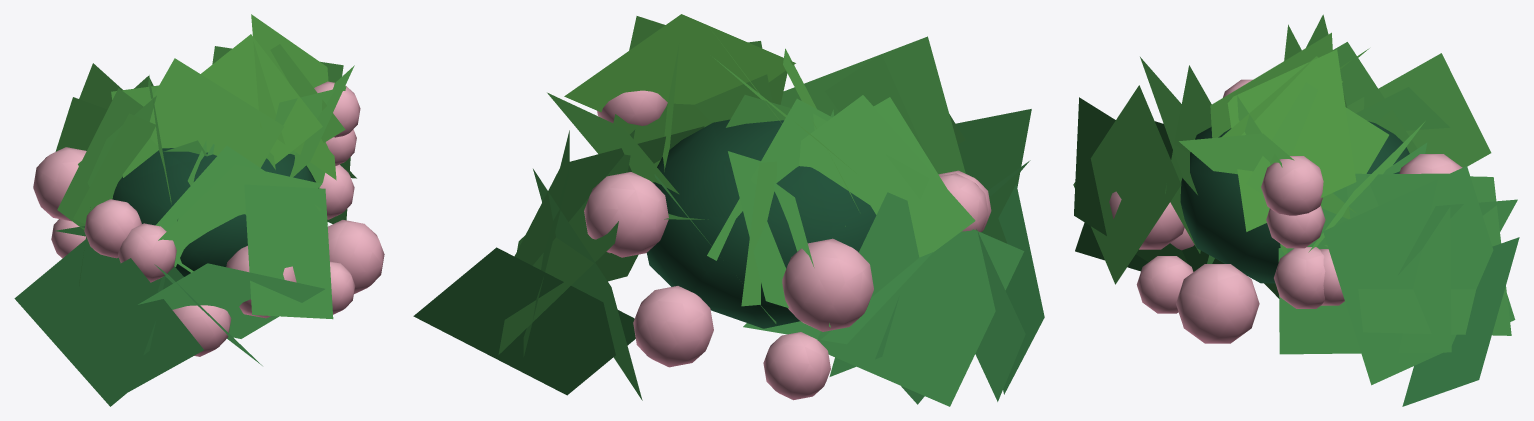
The model's file is bush_b.glb.
3 renders of one model, left to right at view 1: azimuth 30°, elevation 25°; view 2: azimuth 150°, elevation 25°; view 3: azimuth 270°, elevation 25°, orthographic. The views are drawn at different scales.
Parts seen in each view (by area): view 1: Leaves, Blooms, Bush; view 2: Leaves, Blooms, Bush; view 3: Leaves, Blooms, Bush.
Part boxes in pixels (x1=…): Leaves: x1=14, y1=14, x2=356, y2=406; Blooms: x1=33, y1=81, x2=384, y2=356; Bush: x1=112, y1=148, x2=318, y2=276; Leaves: x1=413, y1=14, x2=1044, y2=406; Blooms: x1=584, y1=90, x2=991, y2=400; Bush: x1=647, y1=119, x2=876, y2=328; Leaves: x1=1073, y1=14, x2=1519, y2=406; Blooms: x1=1109, y1=79, x2=1462, y2=343; Bush: x1=1180, y1=121, x2=1409, y2=283.
Bounding box in the file's own units: 1.12 × 0.7983 × 0.976.
